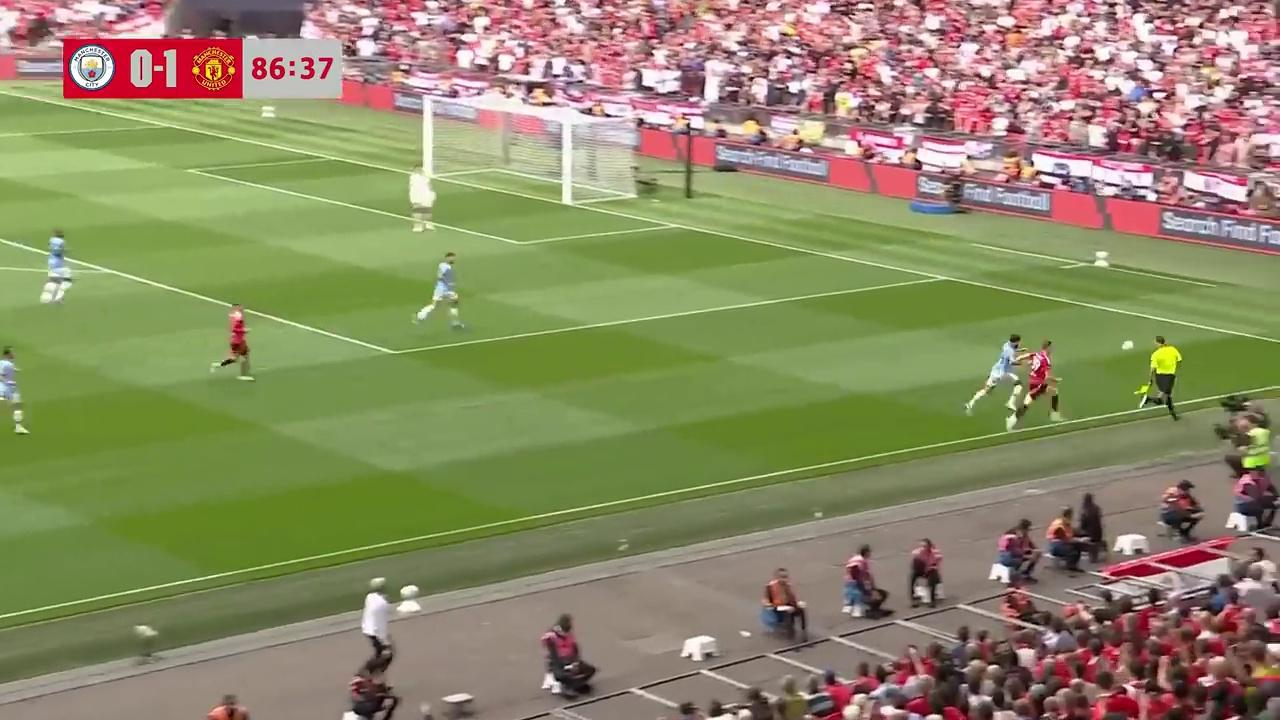ball: (1120, 336, 1136, 353)
player: (999, 340, 1058, 432), (964, 334, 1021, 416), (413, 251, 467, 330), (210, 302, 255, 380), (0, 346, 29, 435), (40, 230, 72, 304), (408, 164, 435, 232)
referee: (1139, 336, 1183, 420)
